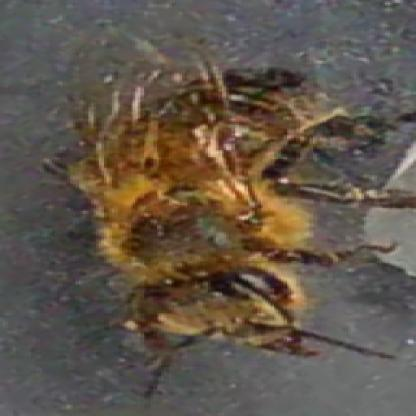bee: (76, 53, 344, 352)
